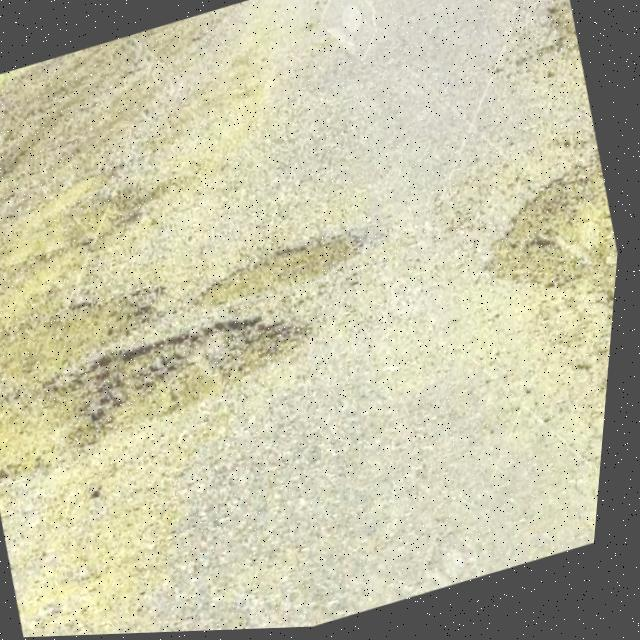Pothole: (44, 290, 331, 464), (455, 128, 631, 335), (191, 221, 376, 316), (532, 0, 589, 81)
